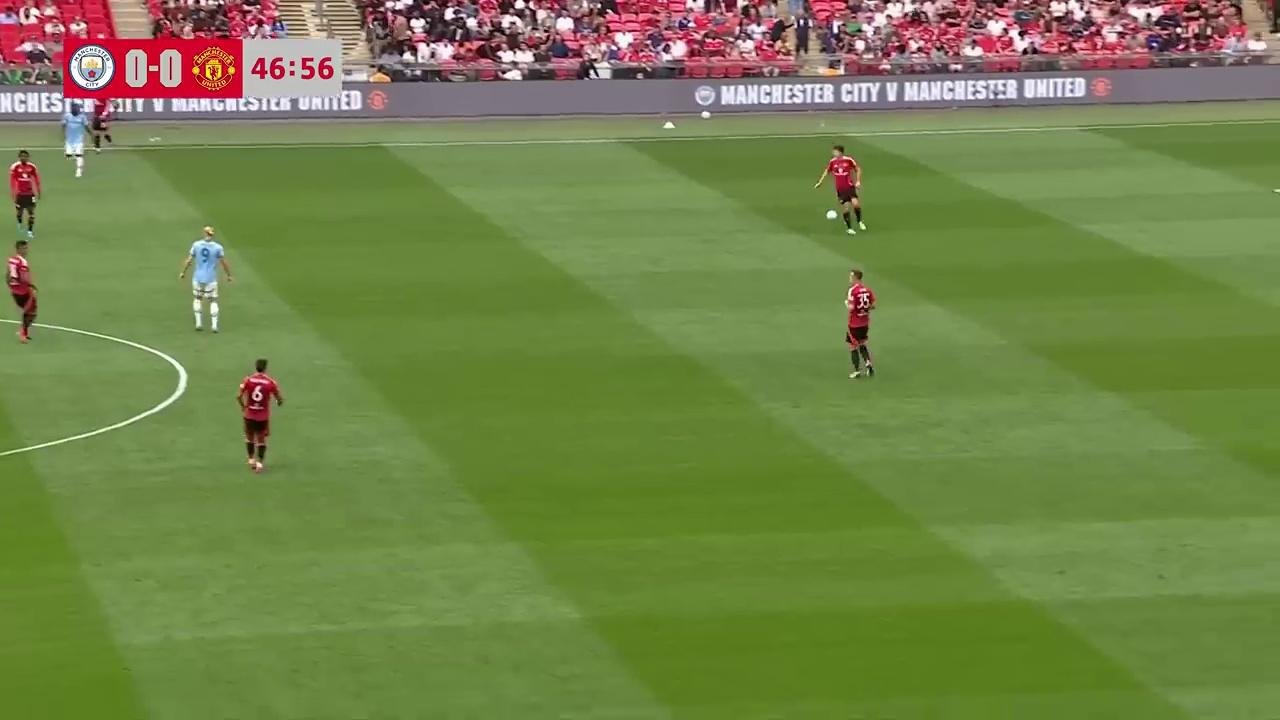ball: (824, 206, 837, 221)
player: (177, 226, 234, 332), (236, 357, 283, 473), (814, 145, 865, 233), (844, 269, 876, 379), (5, 241, 38, 343), (8, 150, 41, 239), (61, 111, 88, 176), (87, 100, 113, 151)
